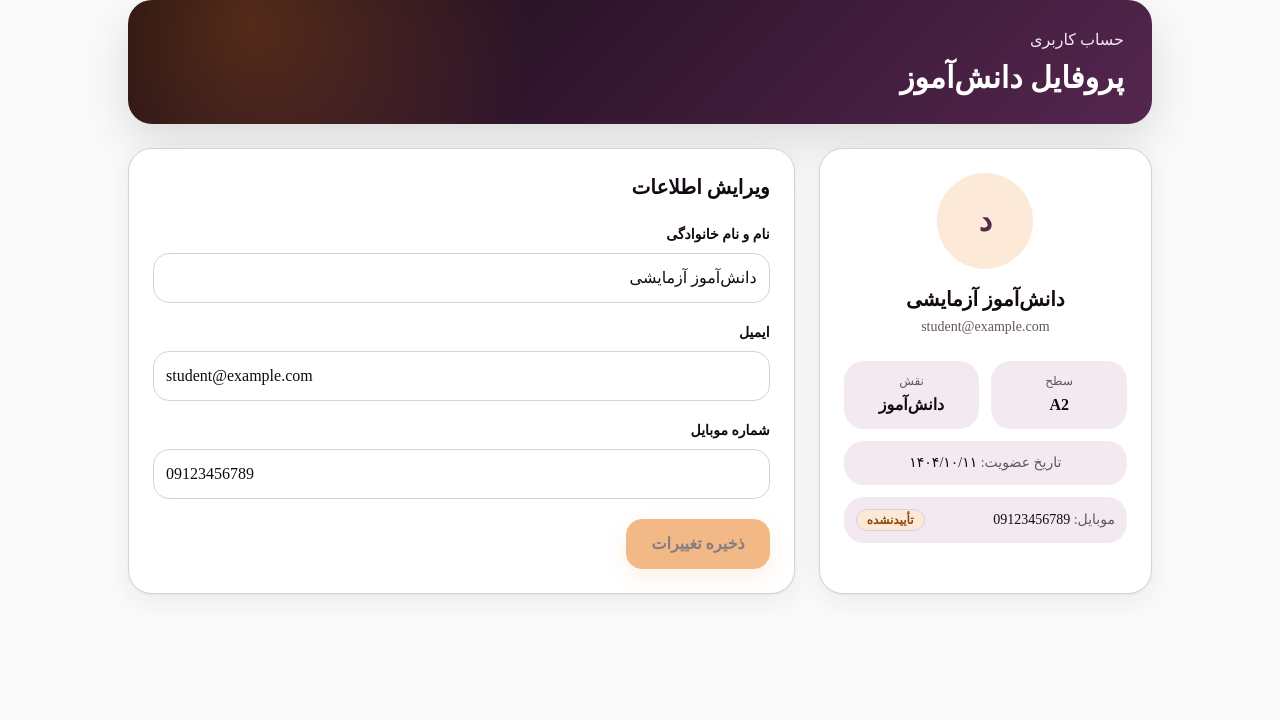
Test: ProfilePage editing › saves a name change with PATCH and no password
This screenshot has width=1280, height=720.
Expected: the button "ذخیره تغییرات" is disabled, [626,519,770,569]
Replace the text in the field labelled "نام و نام خانوادگی" with "  نام تازه " at (461, 278), box [153,253,770,303]
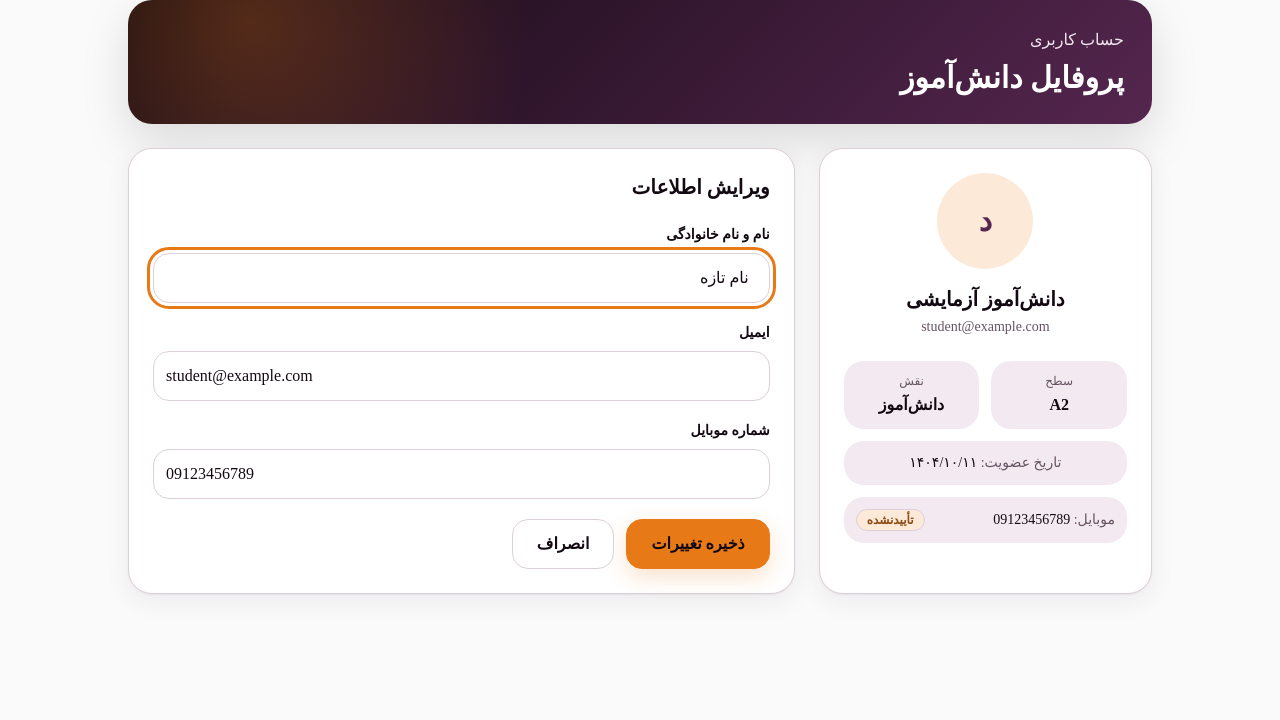
Click the button "ذخیره تغییرات".
click(698, 544)  # box [626,519,770,569]
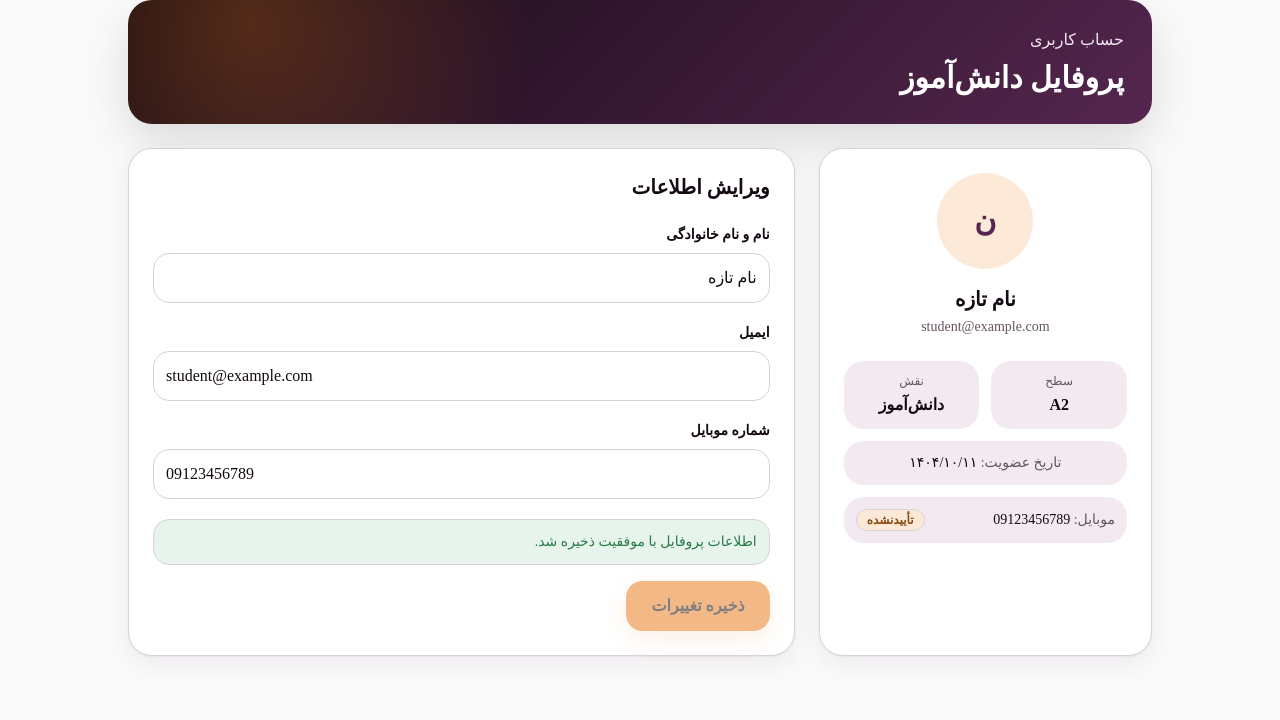
Expected: the text "اطلاعات پروفایل با موفقیت ذخیره شد." is shown, [153,519,770,565]
Expected: the heading "نام تازه" is shown, [955,288,1016,310]
